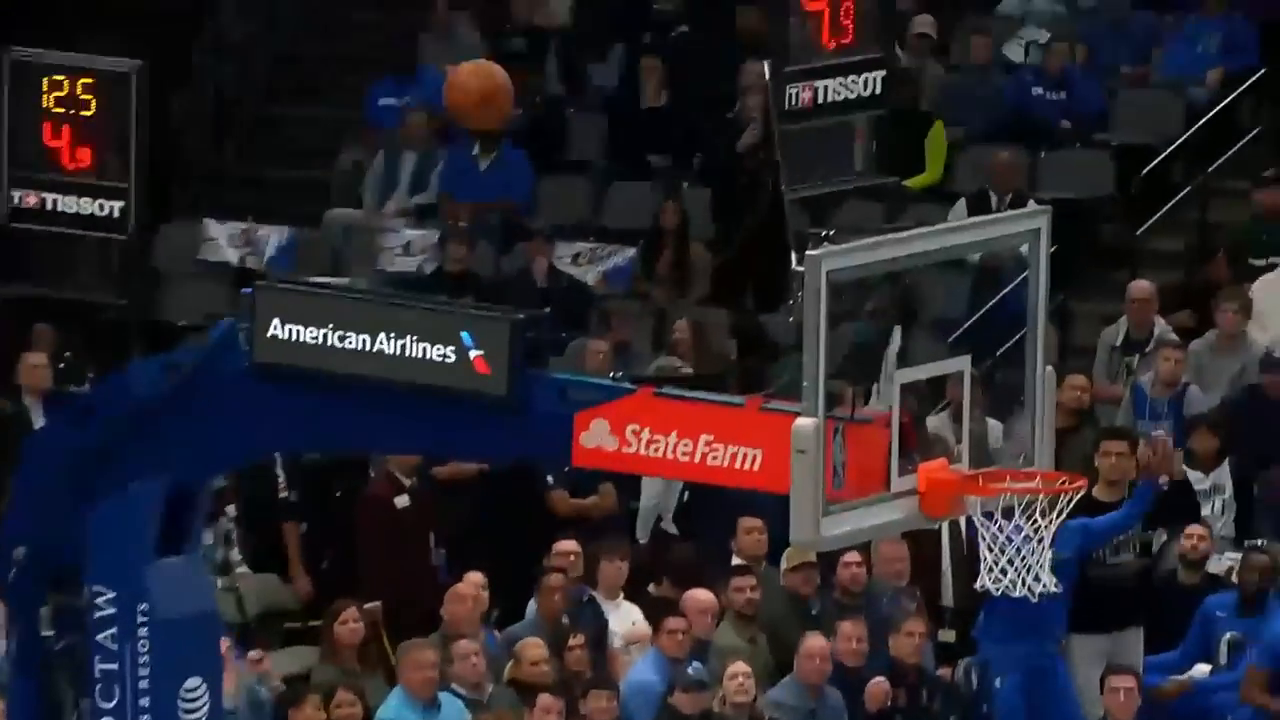ball: (424, 51, 528, 140)
net: (950, 458, 1092, 604)
